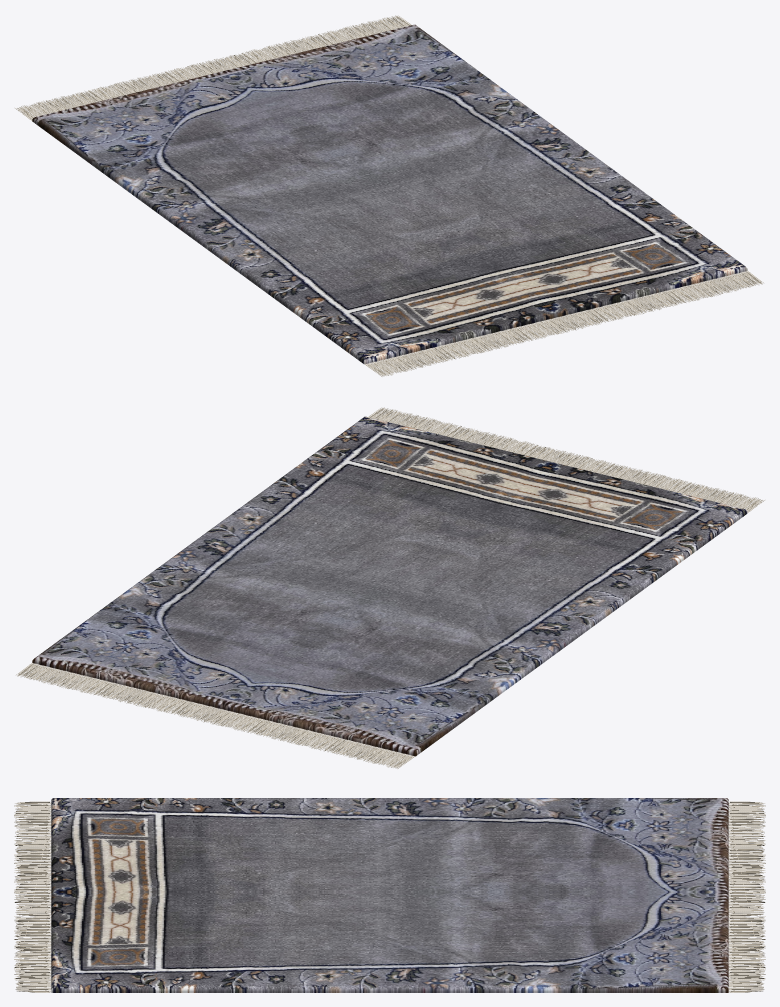
3 renders of one model, top to bottom at view 1: azimuth 30°, elevation 25°; view 2: azimuth 150°, elevation 25°; view 3: azimuth 270°, elevation 25°, orthographic. The views are drawn at different scales.
Parts seen in each view (by area): view 1: k12; view 2: k12; view 3: k12.
Boxes of the visible parts, x1=… form: k12: x1=15, y1=15, x2=763, y2=376; k12: x1=16, y1=407, x2=764, y2=768; k12: x1=14, y1=798, x2=765, y2=992.
Bounding box in the file's own units: 0.8 × 0.0105 × 1.33.
Materials: 3 (2 with a texture image).
